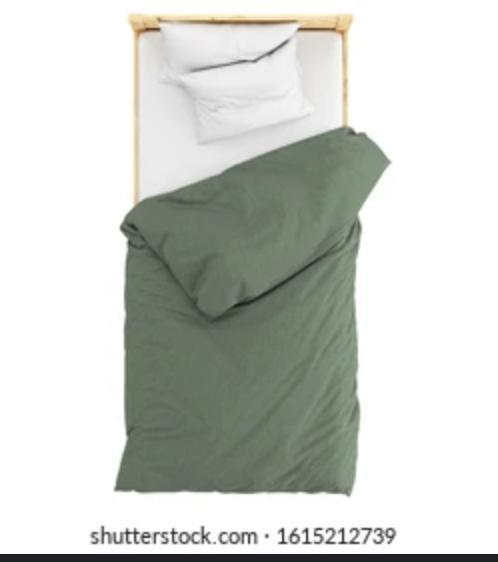Bed-Mattress: (122, 7, 364, 500)
